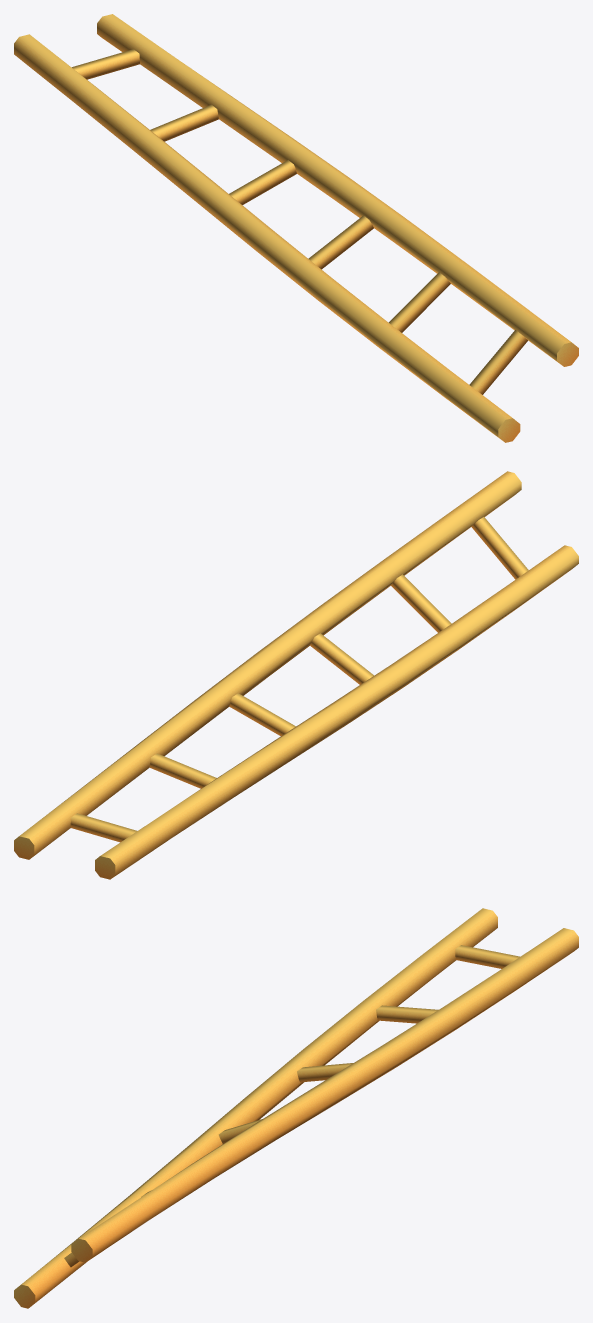
File: coaster-mouse-straight-skew-right.glb
The picture shows the model from 3 angles, top to bottom: view 1: azimuth 30°, elevation 25°; view 2: azimuth 150°, elevation 25°; view 3: azimuth 330°, elevation 25°; orthographic projection. The views are drawn at different scales.
Parts seen in each view (by area): view 1: coaster-mouse-straight-skew-right; view 2: coaster-mouse-straight-skew-right; view 3: coaster-mouse-straight-skew-right.
Part boxes in pixels (box(x1,y1,x2,y2)): coaster-mouse-straight-skew-right: box(14, 14, 578, 442); coaster-mouse-straight-skew-right: box(14, 471, 578, 879); coaster-mouse-straight-skew-right: box(14, 908, 578, 1308).
Bounding box in the file's own units: 1.53 × 1.17 × 12.
1 material, 1 textured.
